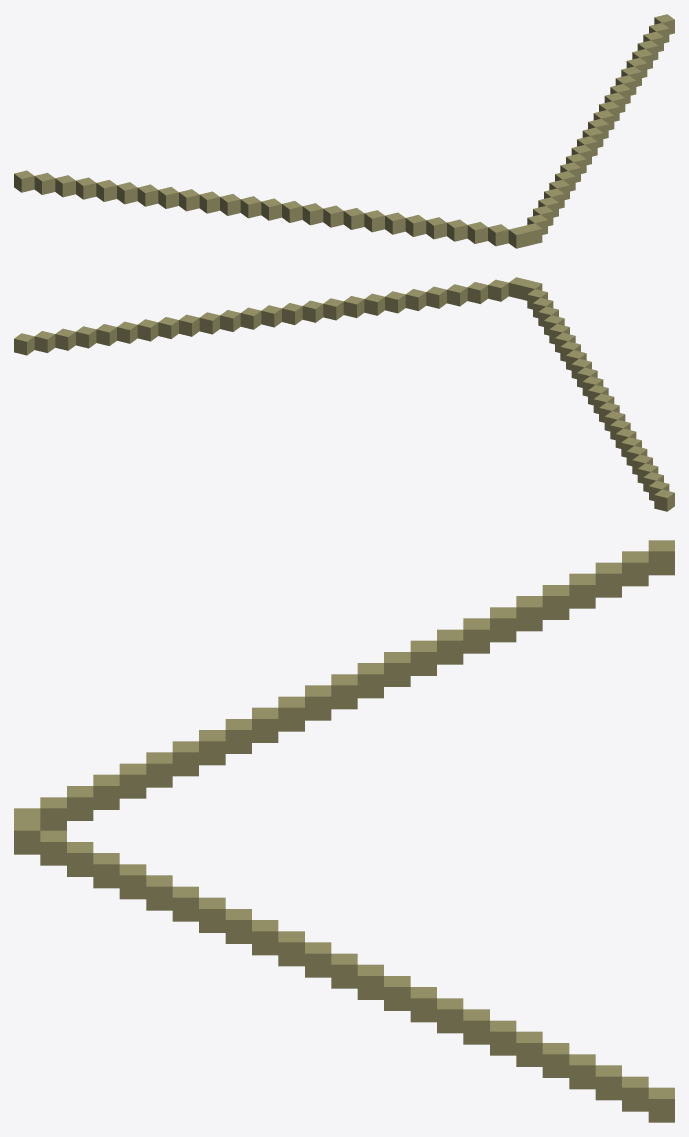
The model's file is Ballista-2.obj.
The picture shows the model from 3 angles, top to bottom: view 1: azimuth 30°, elevation 25°; view 2: azimuth 150°, elevation 25°; view 3: azimuth 270°, elevation 25°; orthographic projection. The views are drawn at different scales.
Bounding box in the file's own units: 5 × 0.1 × 2.5.
Materials: 1 (1 with a texture image).
